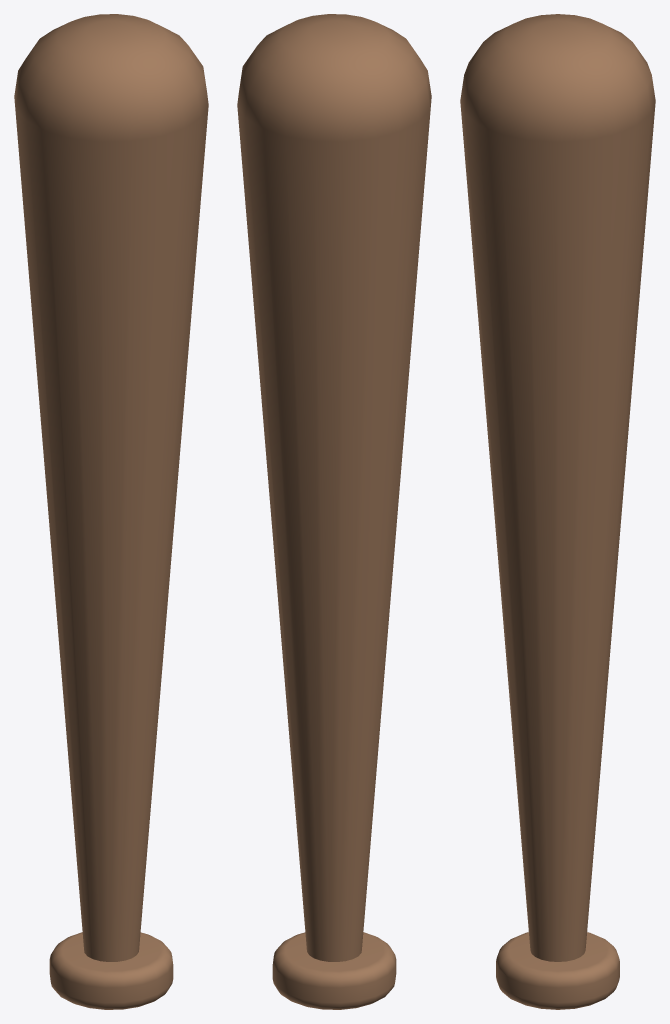
Rendered from Baseball_Bat.fbx.
The picture shows the model from 3 angles, left to right: view 1: azimuth 30°, elevation 25°; view 2: azimuth 150°, elevation 25°; view 3: azimuth 270°, elevation 25°; orthographic projection.
Visible parts, largest first — view 1: Baseball_Bat; view 2: Baseball_Bat; view 3: Baseball_Bat.
Boxes of the visible parts, left/top/right/bottom form: Baseball_Bat: left=14, top=14, right=208, bottom=1009; Baseball_Bat: left=237, top=14, right=431, bottom=1009; Baseball_Bat: left=460, top=14, right=655, bottom=1009.
Bounding box in the file's own units: 1.89 × 10.2 × 1.89.
